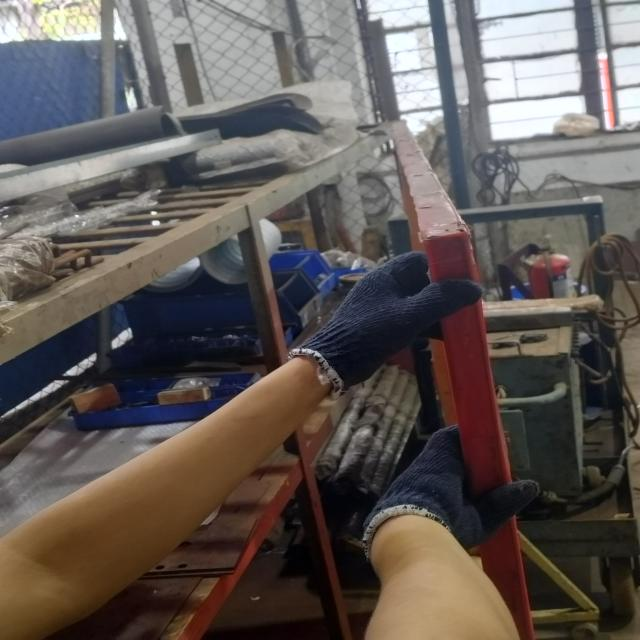Gloves-Detection: (298, 270, 480, 376), (382, 425, 509, 543)
